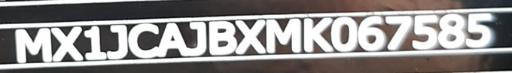letter: (264, 17, 302, 54), (48, 26, 84, 61), (232, 18, 266, 55), (14, 28, 52, 61), (129, 21, 159, 60), (302, 17, 334, 52), (207, 20, 237, 55), (157, 21, 187, 56), (465, 11, 493, 46), (385, 14, 413, 49), (357, 15, 385, 50), (330, 15, 358, 50), (438, 12, 464, 47), (412, 14, 438, 49), (106, 23, 130, 58), (82, 25, 106, 60), (188, 21, 208, 56)
